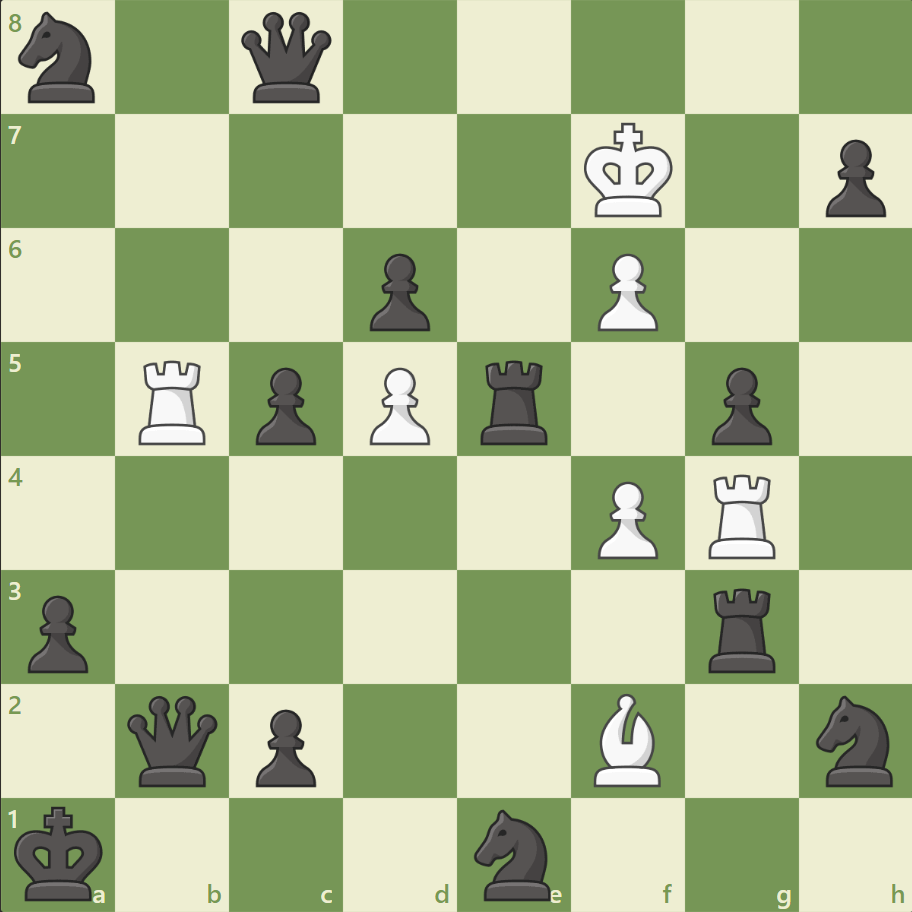B: (585, 687, 669, 790)
K: (579, 117, 679, 225)
P: (588, 246, 662, 337), (361, 359, 435, 450), (588, 473, 662, 564)
R: (700, 466, 783, 563), (133, 352, 215, 449)
k: (11, 798, 111, 906)
n: (11, 7, 108, 110), (806, 688, 903, 791), (465, 802, 562, 904)
p: (247, 359, 322, 450), (701, 359, 776, 450), (20, 586, 95, 677), (247, 700, 322, 791), (815, 132, 889, 223), (361, 246, 435, 337)
q: (237, 9, 336, 108), (124, 690, 223, 789)
r: (473, 352, 556, 449), (700, 579, 783, 676)
